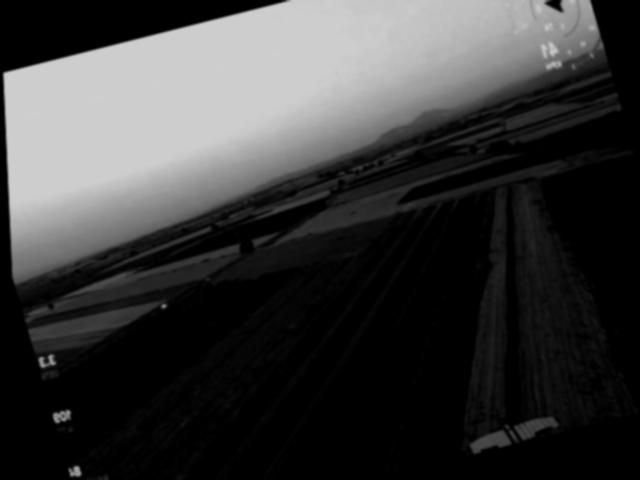hedef: (449, 394, 567, 456)
